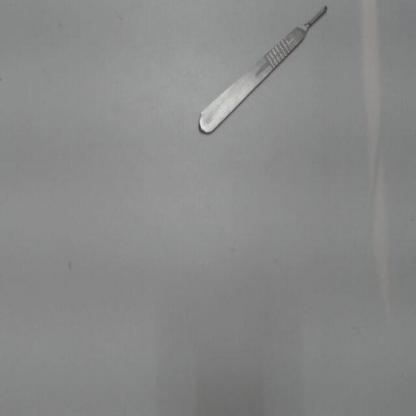No.3 BP Handle: (190, 2, 342, 149)
